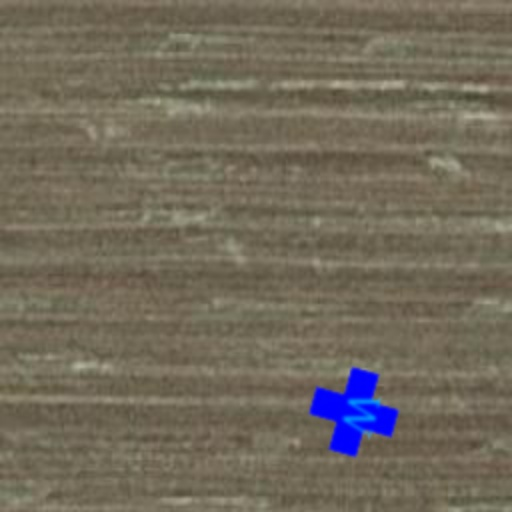cross: (300, 358, 408, 466)
